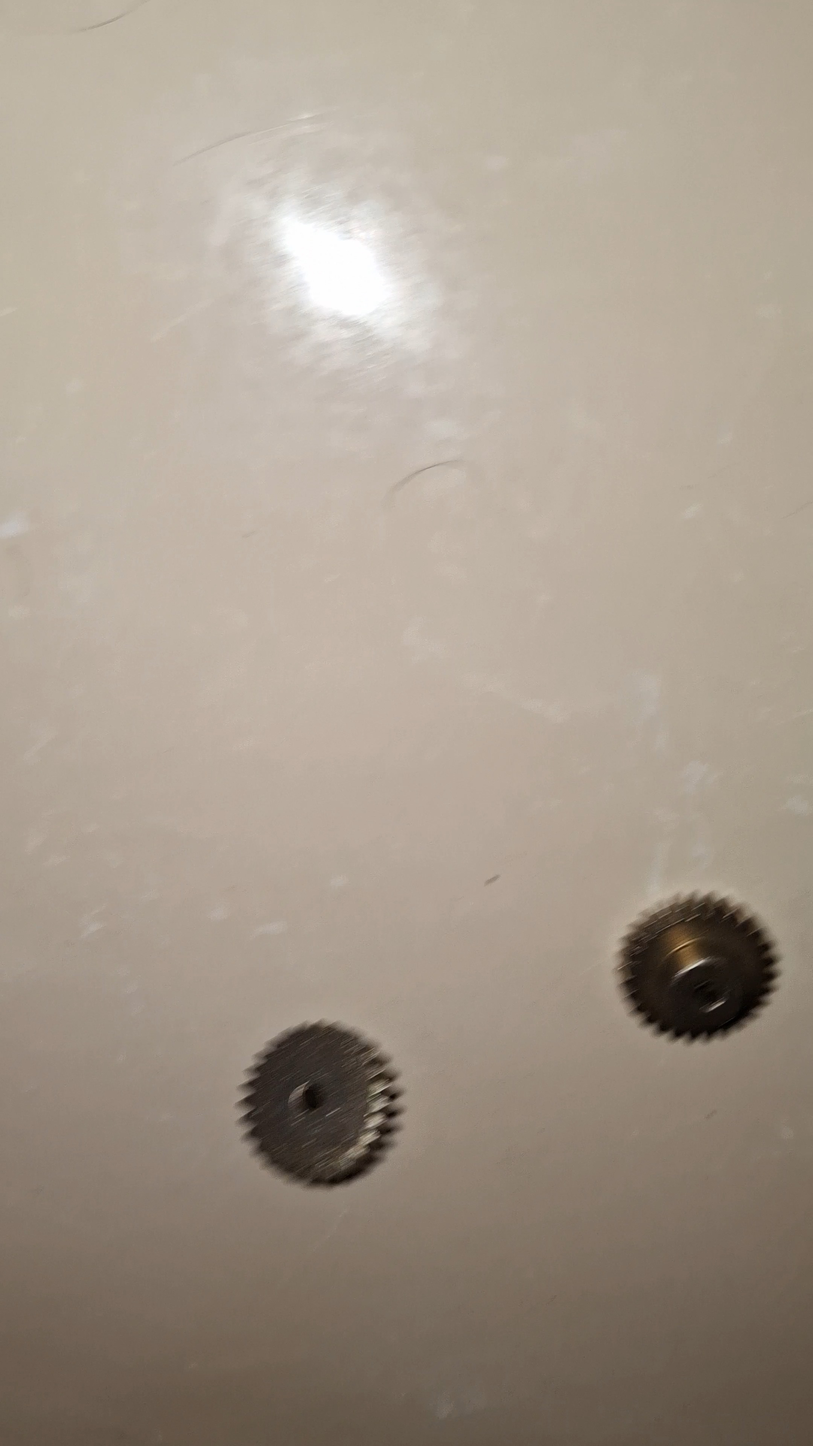spur gear: (242, 1022, 397, 1185), (619, 894, 776, 1037)
